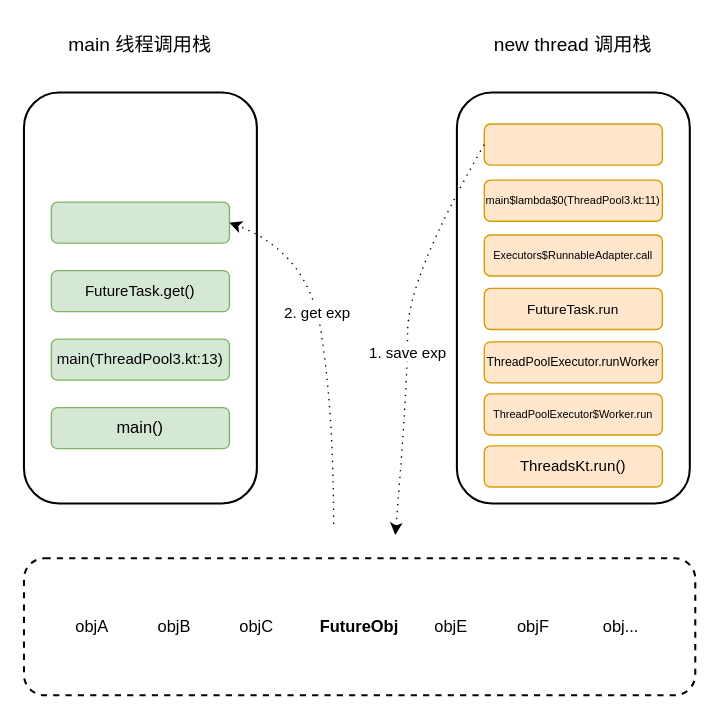
This 721x719 diagram has some shape labels left out. The centre of each missing label's shape, as x and y in pixels:
doWork2(ThreadPool3.kt:26): (572,144)
FutureTask.report(): (139,222)
